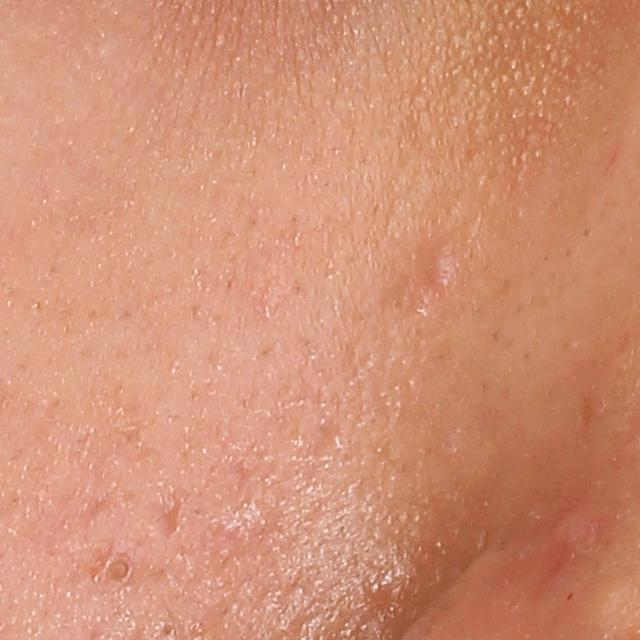atrophic_scar: (159, 487, 279, 621), (145, 491, 188, 548)
comedo: (101, 557, 143, 586), (156, 616, 180, 640)
hypertrophic_scar: (443, 502, 605, 612)
papule: (415, 241, 462, 294)
